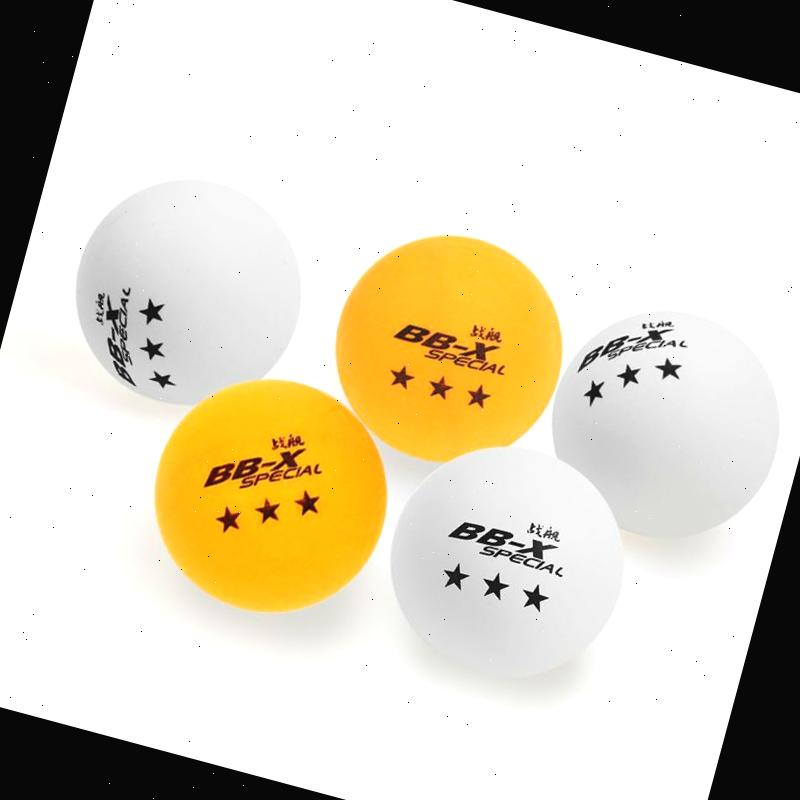ball: (356, 410, 668, 718), (122, 346, 417, 646), (301, 202, 596, 497), (517, 271, 800, 576), (43, 145, 333, 435)
